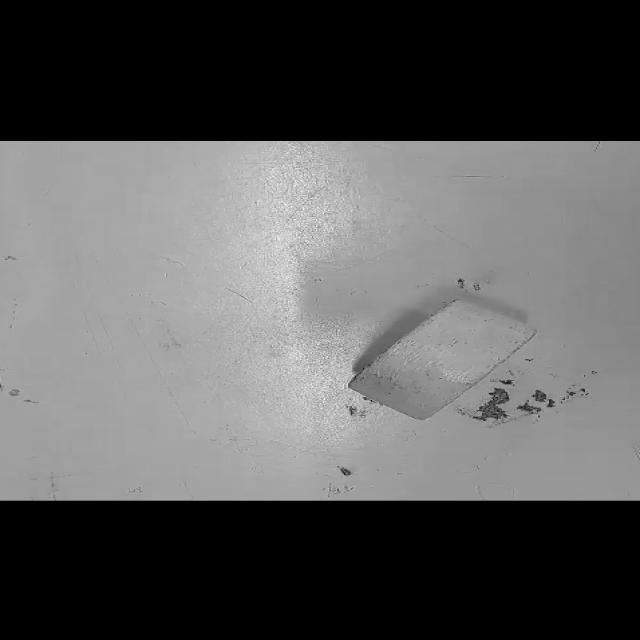ycircle: (356, 300, 530, 418)
